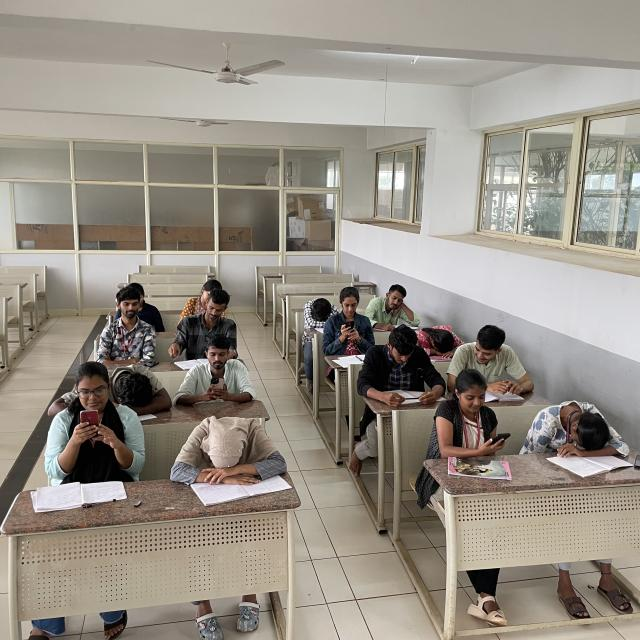Reading: (361, 324, 441, 412), (446, 325, 538, 398)
Sleeping: (167, 410, 293, 493), (516, 396, 631, 466), (48, 358, 177, 416), (404, 321, 469, 361), (297, 291, 343, 338)
Using Phone: (43, 362, 150, 484), (428, 367, 515, 459), (173, 332, 260, 406), (324, 284, 377, 353)
Writing: (168, 286, 247, 364), (362, 280, 419, 329)
